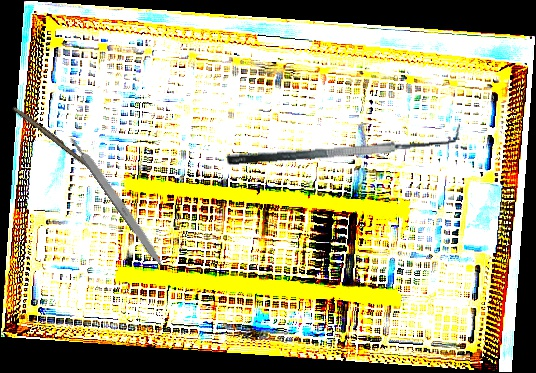Scalpel Handle: (67, 132, 169, 271), (10, 104, 105, 178)
Spatula Surgical: (225, 122, 462, 168)
